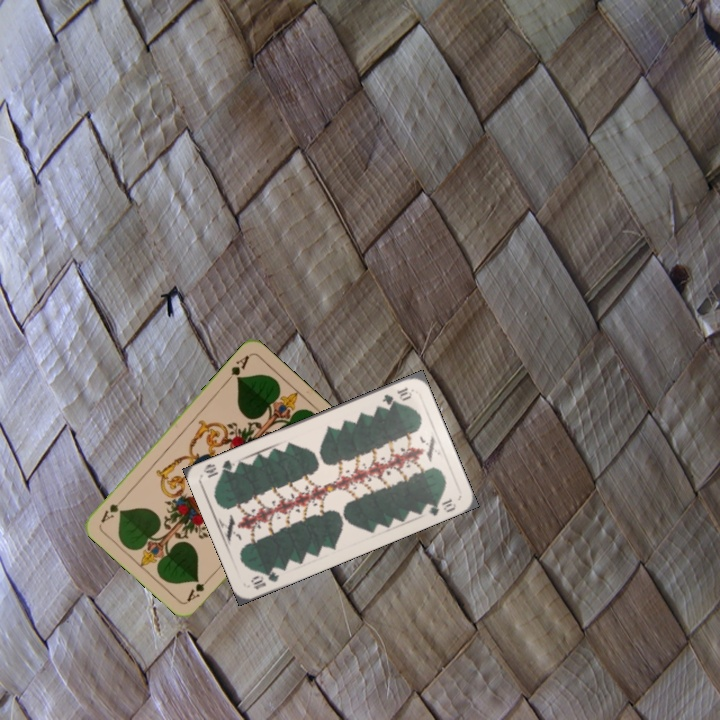G10: (378, 383, 415, 408), (247, 566, 282, 592)
GA: (183, 571, 215, 605), (222, 351, 252, 385)
